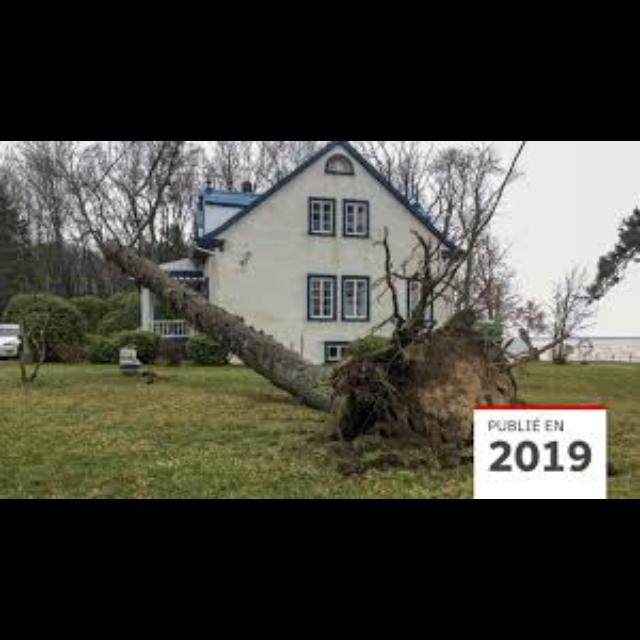Fallen Tree: (100, 238, 522, 462)
